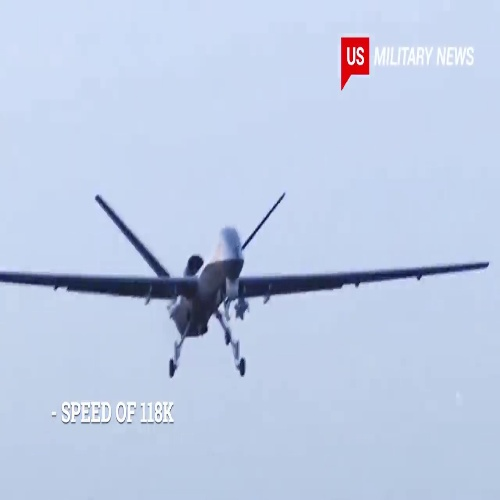uav: (2, 188, 487, 377)
